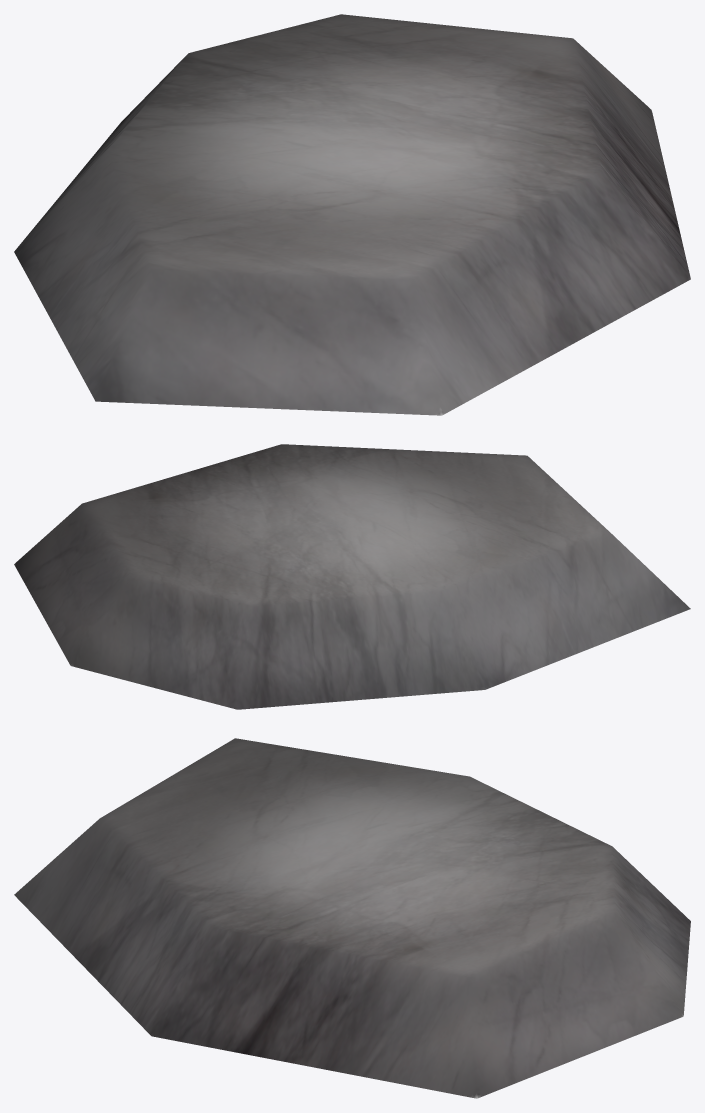
The model's file is stone2.fbx.
The picture shows the model from 3 angles, top to bottom: view 1: azimuth 30°, elevation 25°; view 2: azimuth 150°, elevation 25°; view 3: azimuth 270°, elevation 25°; orthographic projection. The views are drawn at different scales.
Parts seen in each view (by area): view 1: steppingStone2; view 2: steppingStone2; view 3: steppingStone2.
Boxes of the visible parts, box(x1,y1,x2,y2) form: steppingStone2: box(14, 14, 690, 415); steppingStone2: box(14, 444, 690, 709); steppingStone2: box(14, 738, 690, 1098).
Size of the model in its own units: 3.47 by 0.5056 by 3.2.
Materials: 1 (1 with a texture image).
